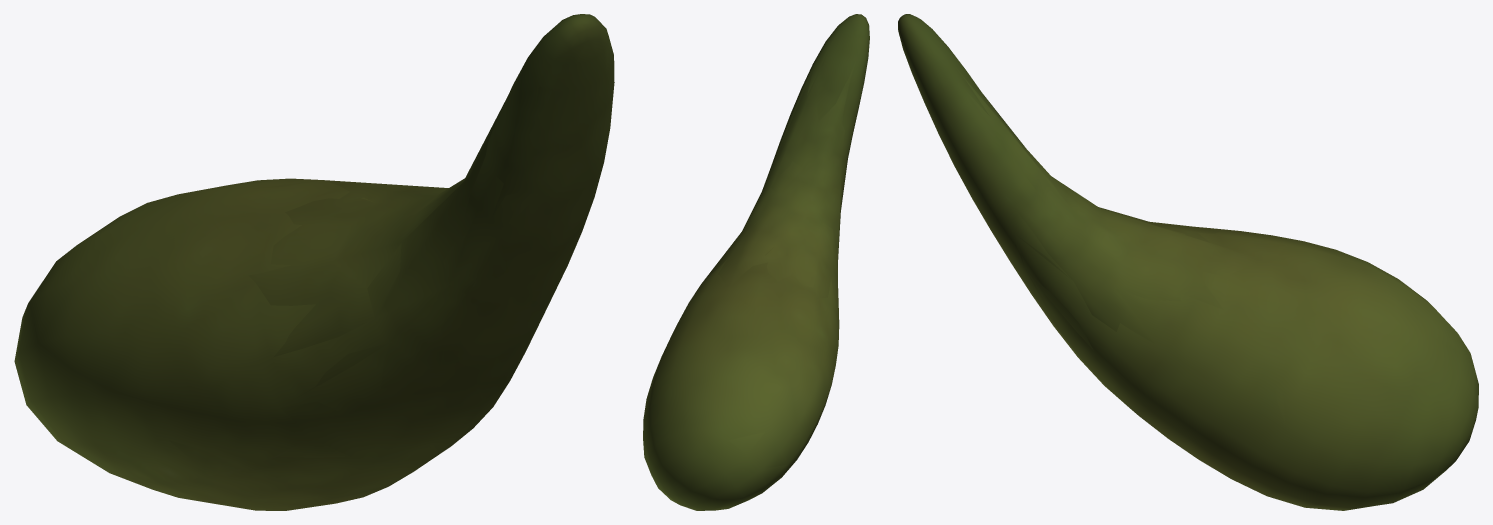
File: Gallbladder.fbx
The picture shows the model from 3 angles, left to right: view 1: azimuth 30°, elevation 25°; view 2: azimuth 150°, elevation 25°; view 3: azimuth 270°, elevation 25°; orthographic projection. The views are drawn at different scales.
Parts seen in each view (by area): view 1: Gallbladder, Gallbladder low; view 2: Gallbladder, Gallbladder low; view 3: Gallbladder, Gallbladder low.
Boxes of the visible parts, x1=… form: Gallbladder: x1=14, y1=14, x2=614, y2=510; Gallbladder low: x1=15, y1=29, x2=583, y2=510; Gallbladder: x1=643, y1=14, x2=869, y2=510; Gallbladder low: x1=669, y1=30, x2=857, y2=499; Gallbladder: x1=898, y1=14, x2=1478, y2=510; Gallbladder low: x1=926, y1=39, x2=1451, y2=503.
Size of the model in its own units: 2.25 by 4.7 by 5.04.
